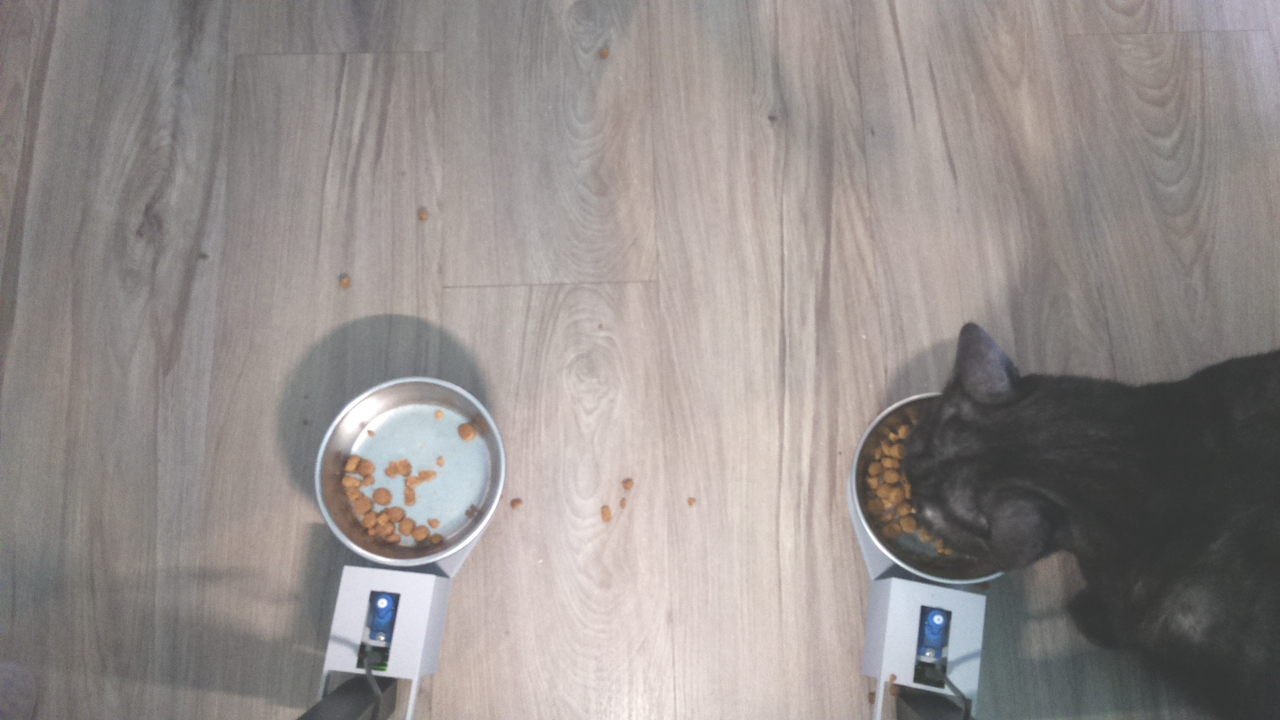open_bowl: (312, 371, 507, 569)
saki_eating: (842, 297, 1100, 600)
